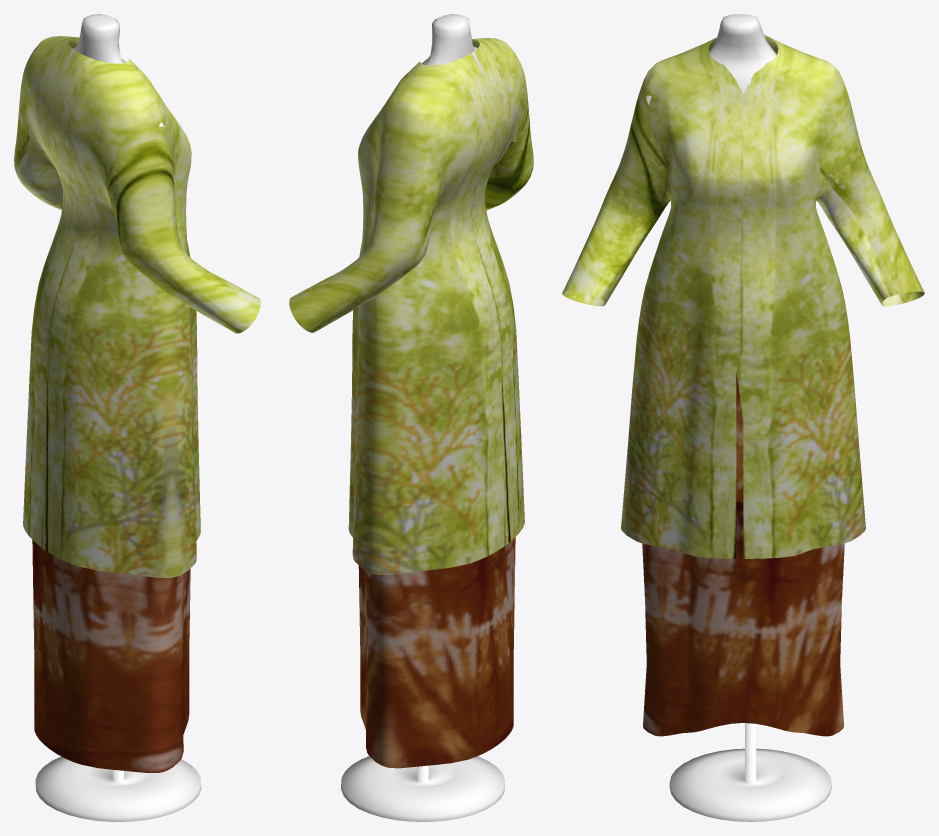
The model's file is KEBAYA LABUH BATIK_2.fbx.
The picture shows the model from 3 angles, left to right: view 1: azimuth 30°, elevation 25°; view 2: azimuth 150°, elevation 25°; view 3: azimuth 270°, elevation 25°; orthographic projection. The views are drawn at different scales.
Parts seen in each view (by area): view 1: 3.004, 1.040, 1.044; view 2: 3.004, 1.040, 1.044; view 3: 3.004, 1.040, 1.044.
Boxes of the visible parts, x1=… form: 3.004: x1=14, y1=36, x2=260, y2=772; 1.040: x1=35, y1=756, x2=201, y2=821; 1.044: x1=74, y1=14, x2=164, y2=130; 3.004: x1=289, y1=38, x2=533, y2=768; 1.040: x1=341, y1=756, x2=504, y2=821; 1.044: x1=422, y1=14, x2=477, y2=65; 3.004: x1=562, y1=35, x2=924, y2=736; 1.040: x1=669, y1=723, x2=831, y2=821; 1.044: x1=646, y1=14, x2=776, y2=104.
Size of the model in its own units: 33.6 by 165 by 71.38.
2 materials, 2 textured.
